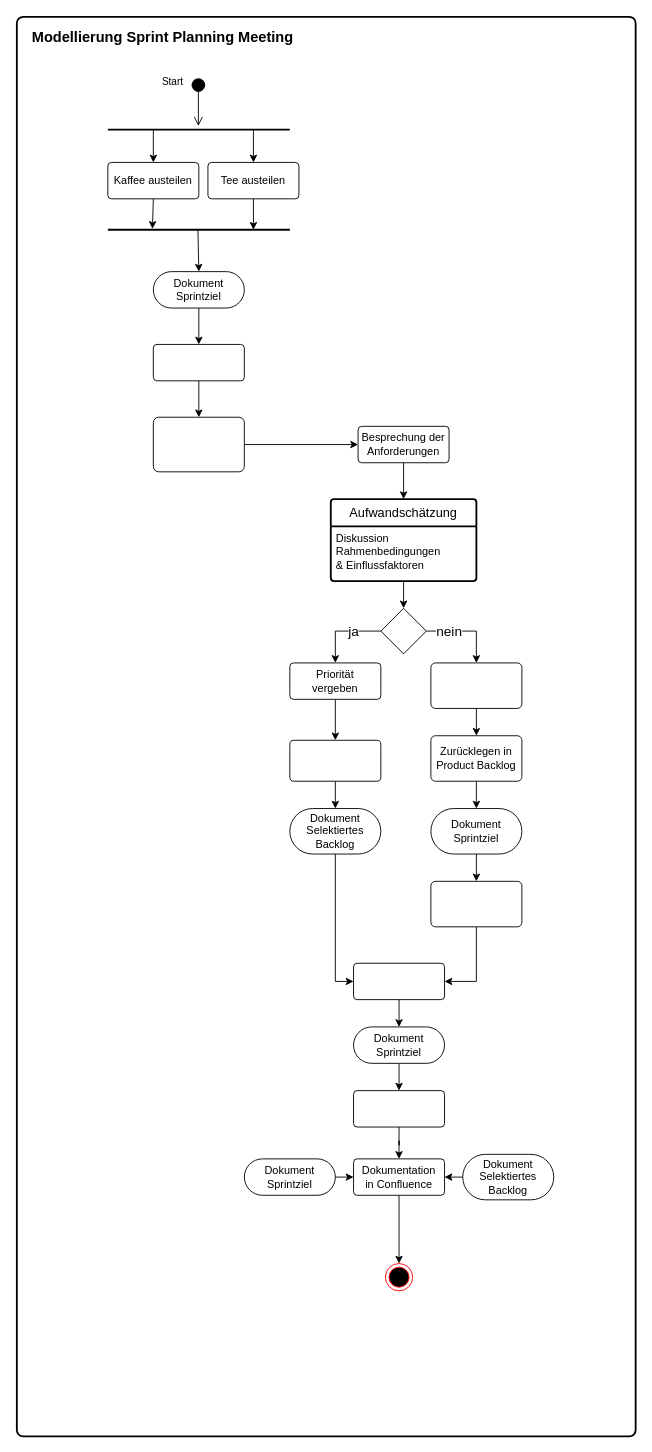
This 652x1452 diagram has some shape labels left out. Each missing label, with the centre of its shape:
Aufnahme in Selektierte Produkt Backlog: the point at 335,760
Forcast vornehmen: the point at 399,1108
Kapazität bestimmen: the point at 399,981
Neue Abschätzung festlegen: the point at 476,685
Sprintziel vorstellen: the point at 198,362
Überblick über Anforderungen geben: the point at 198,444
Überprüfung anpassung Sprintziel: the point at 476,903
